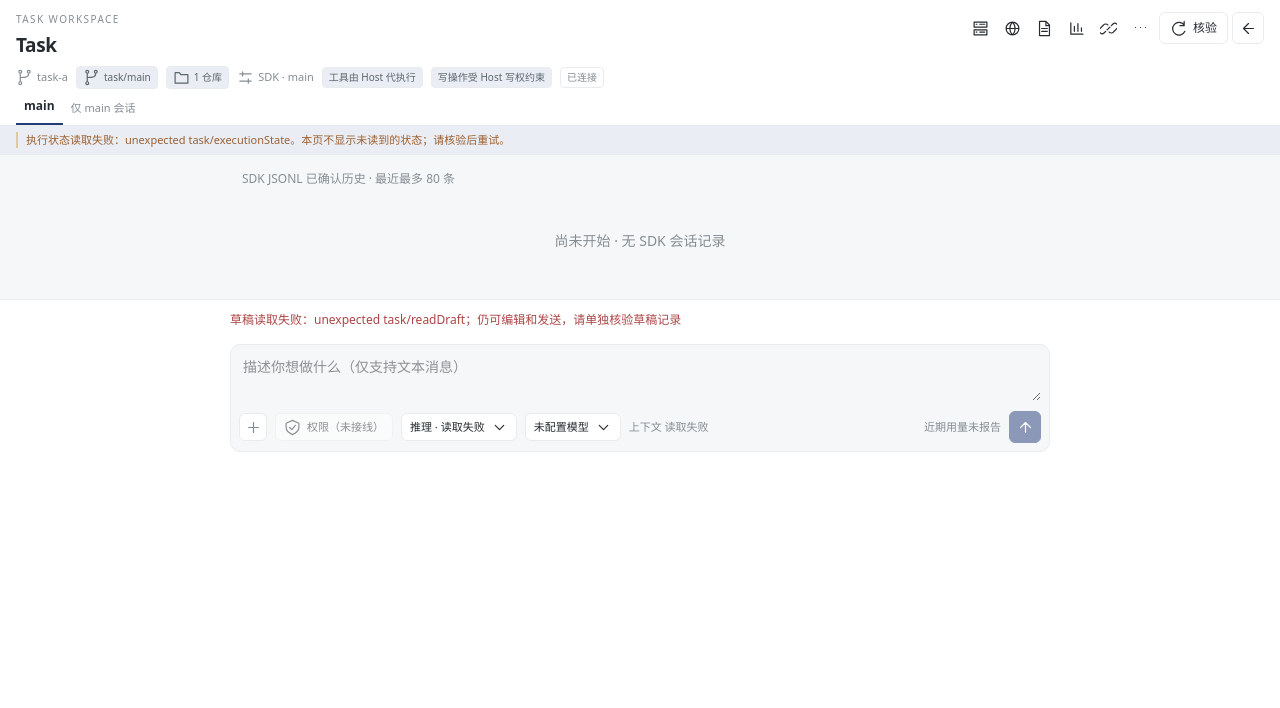
Test: [UI 对齐] S8d tool panels are on-demand and close-only › opens a real panel only after the user clicks, and closing it stops no service and keeps the session
This screenshot has width=1280, height=708.
Expected: the text "仅 main 会话" is shown, [67,100,135,124]
Click the button named "运行". click: click(981, 28)
box: [967,14,995,42]
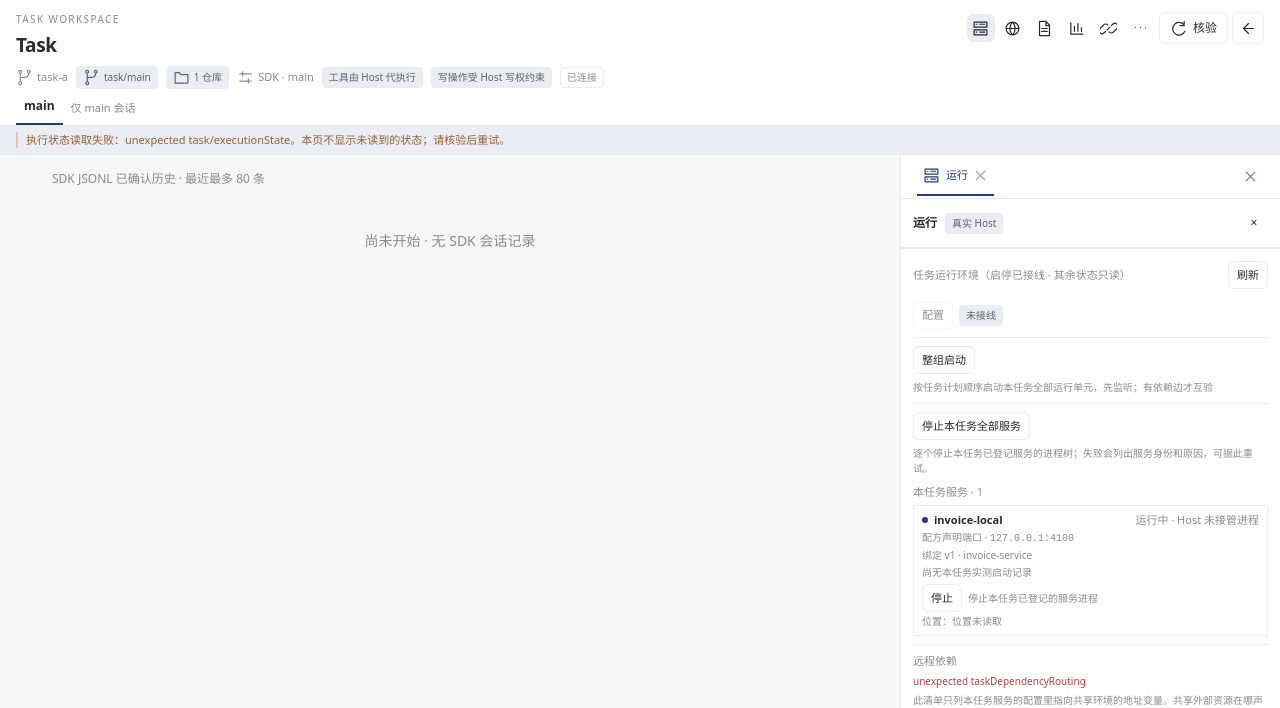
Expected: the text "invoice-local" is shown, [934,512,1002,528]
Click the button named "关闭面板". click: click(1254, 223)
box: [1240,209,1268,237]
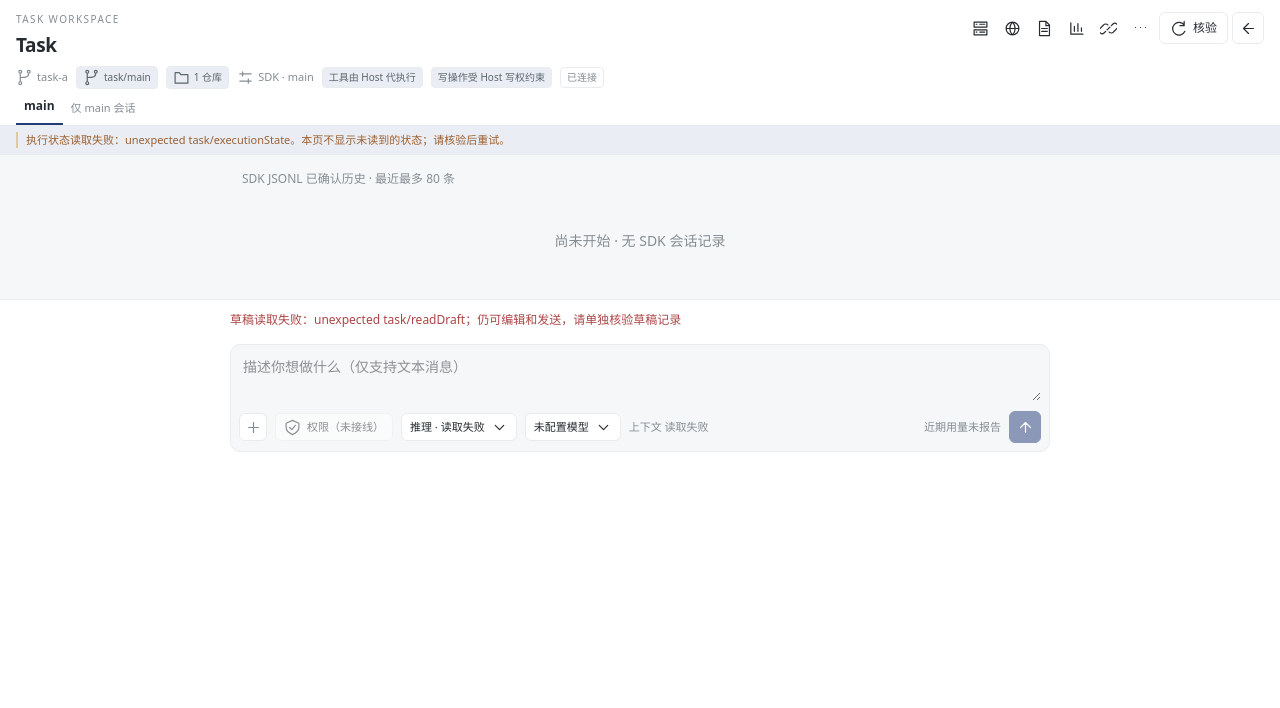
Expected: the text "仅 main 会话" is shown, [67,100,135,124]
Expected: the text box labelled "消息" is shown, [239,353,1041,401]
Note: A second, different panel is a fresh on-demand open with the same guarantees.
Click the button named "日志". click: click(1077, 28)
box: [1063,14,1091,42]
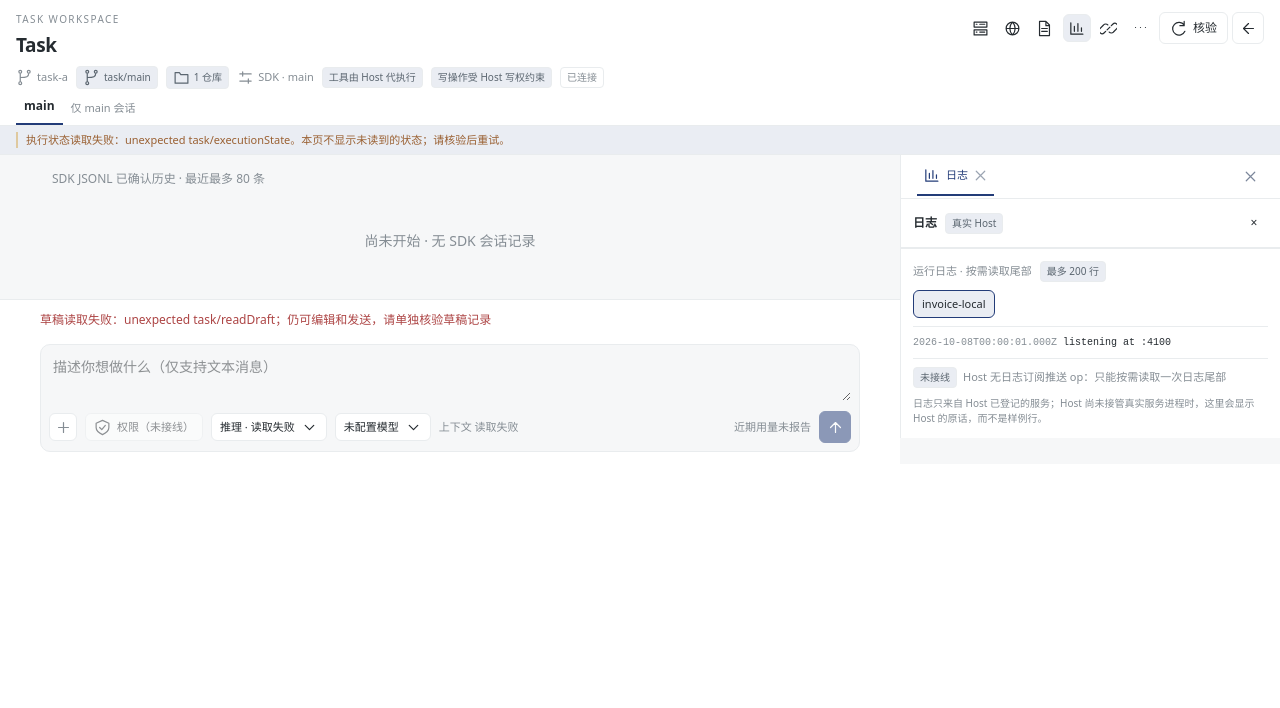
Expected: the list item "2026-10-08T00:00:01.000Z listening at :4100" is shown, [913,337,1171,348]
Click the button named "关闭面板". click: click(1254, 223)
box: [1240,209,1268,237]
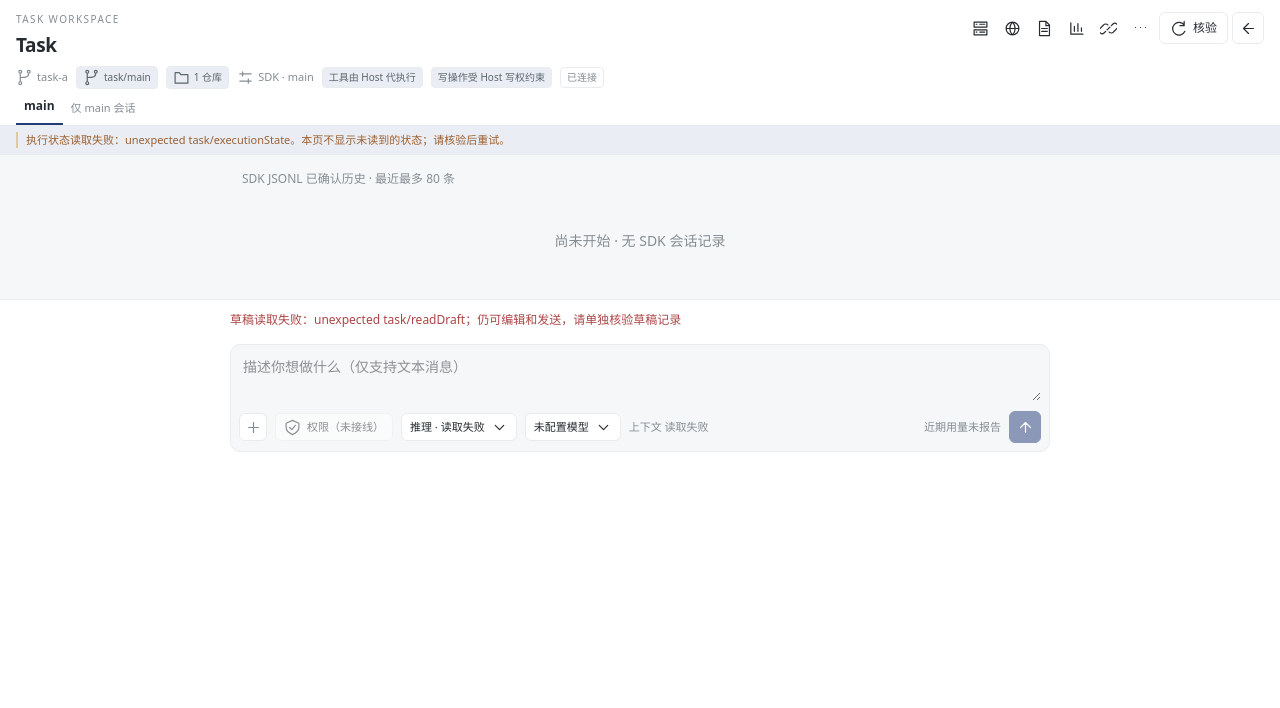
Expected: the element with test id "desktop-tool-dock" is gone
